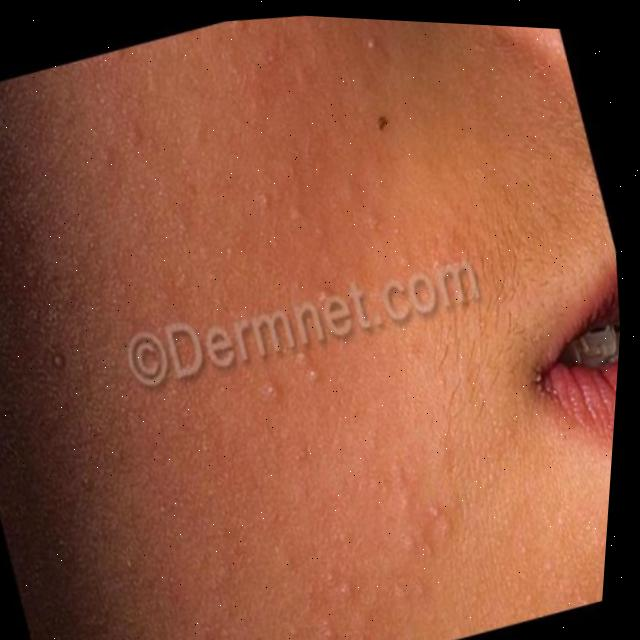Eczema: (4, 105, 456, 626)
